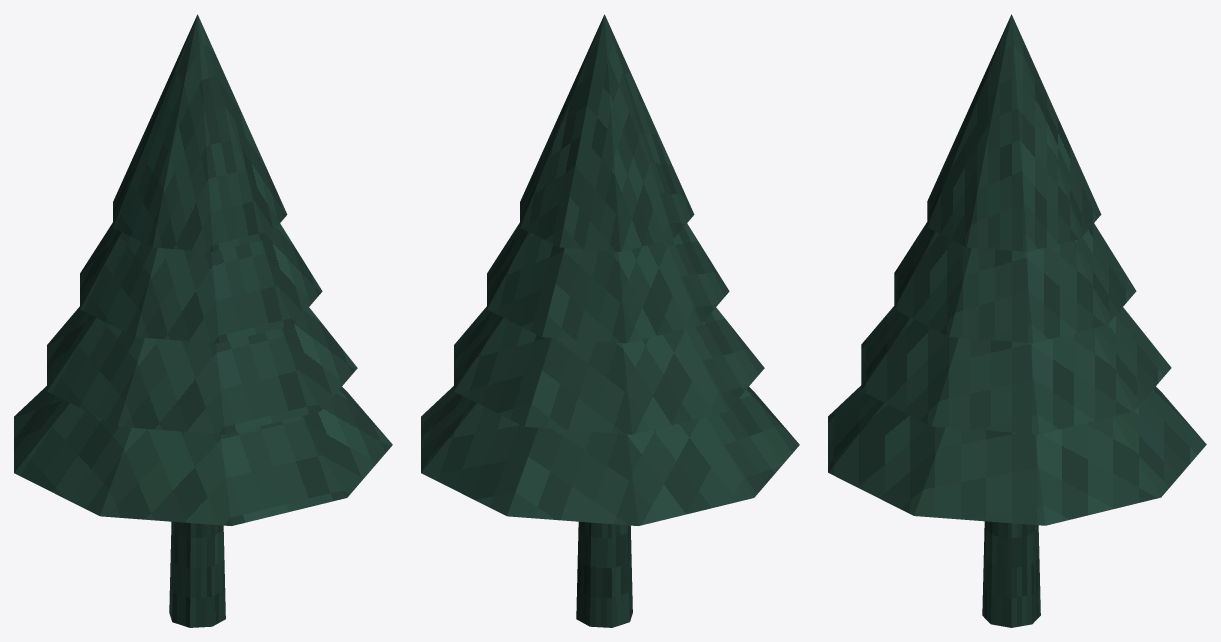
File: pine_07.glb
The picture shows the model from 3 angles, left to right: view 1: azimuth 30°, elevation 25°; view 2: azimuth 150°, elevation 25°; view 3: azimuth 270°, elevation 25°; orthographic projection.
Parts seen in each view (by area): view 1: Needles, Needles.001, Needles.003, Needles.002, Trunk; view 2: Needles, Needles.001, Needles.003, Needles.002, Trunk; view 3: Needles, Needles.001, Needles.003, Needles.002, Trunk.
Part boxes in pixels (box(x1,y1,x2,y2)): Needles: box(14, 386, 392, 525); Needles.001: box(47, 306, 357, 434); Needles.003: box(113, 14, 287, 251); Needles.002: box(80, 222, 322, 343); Trunk: box(169, 521, 225, 627); Needles: box(421, 386, 799, 525); Needles.001: box(454, 306, 764, 434); Needles.003: box(520, 14, 694, 251); Needles.002: box(487, 222, 729, 343); Trunk: box(576, 521, 632, 627); Needles: box(828, 385, 1206, 525); Needles.001: box(861, 306, 1171, 434); Needles.003: box(927, 14, 1101, 251); Needles.002: box(894, 222, 1136, 343); Trunk: box(982, 521, 1040, 627).
Size of the model in its own units: 2.63 by 4.53 by 2.59.
1 material, 1 textured.
